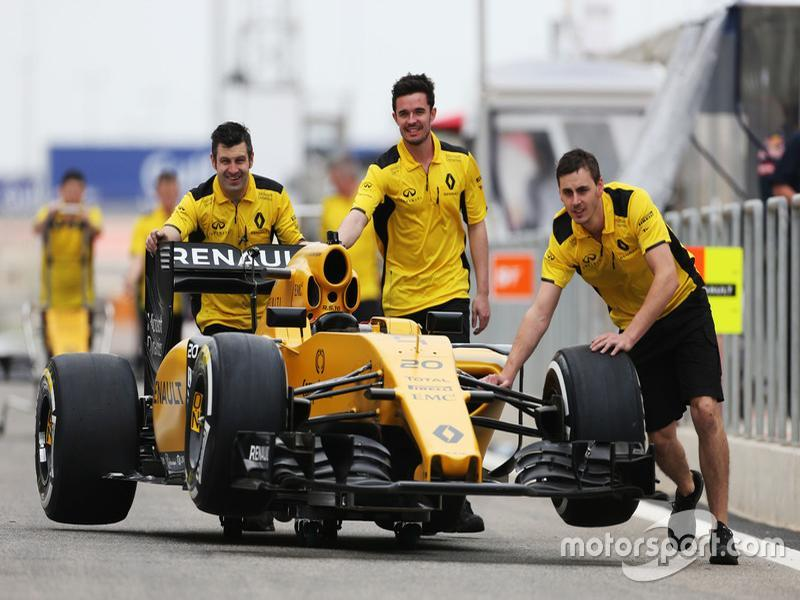f1: (41, 213, 678, 559)
